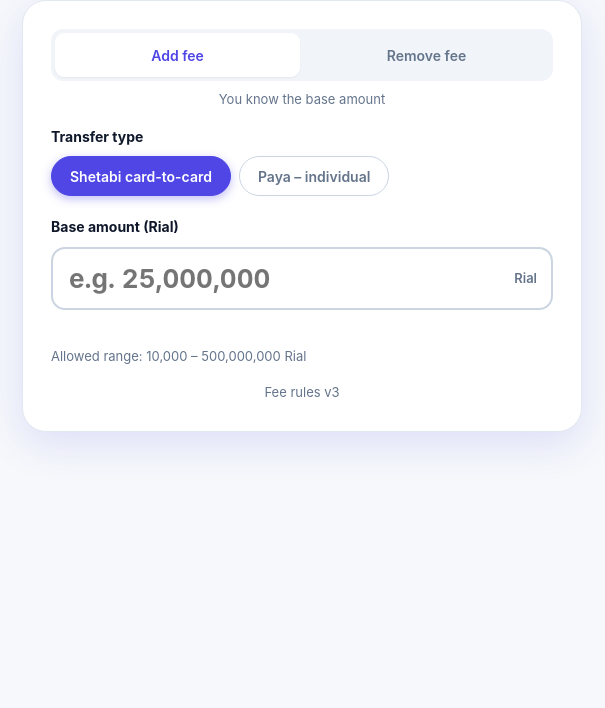
Test case: Calculator › loads fee rules and calculates interactively as the user types
# Type an amount — result appears without pressing any button.
Type "25000000" into the field labelled "Base amount (Rial)" at (302, 278), box [51,247,553,310]
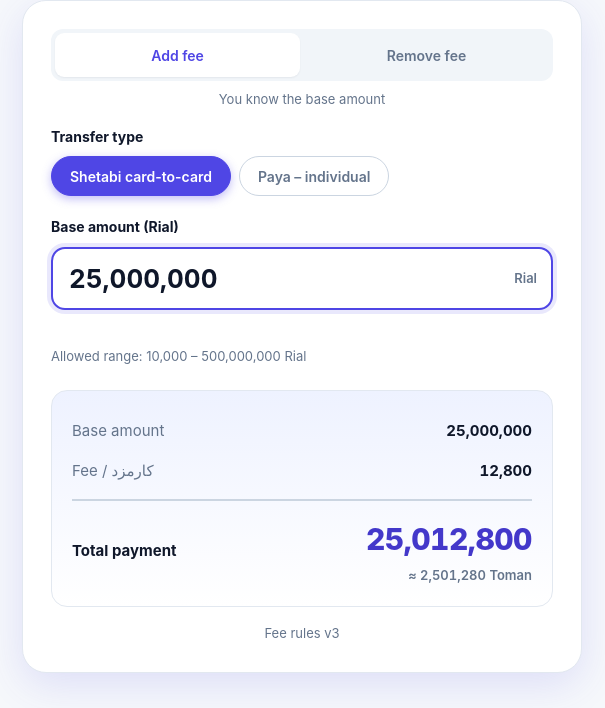
Check: the text "Total payment" is shown, box [72,539,176,563]
Check: the text "25,000,000" is shown, box [446,419,532,443]
Check: the text "12,800" is shown, box [480,459,532,483]
